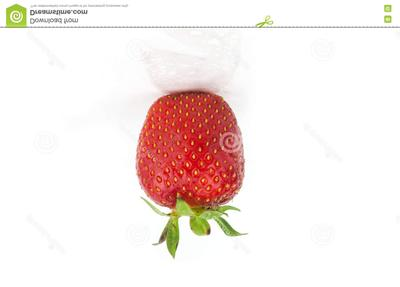strawberry: (0, 0, 400, 287)
